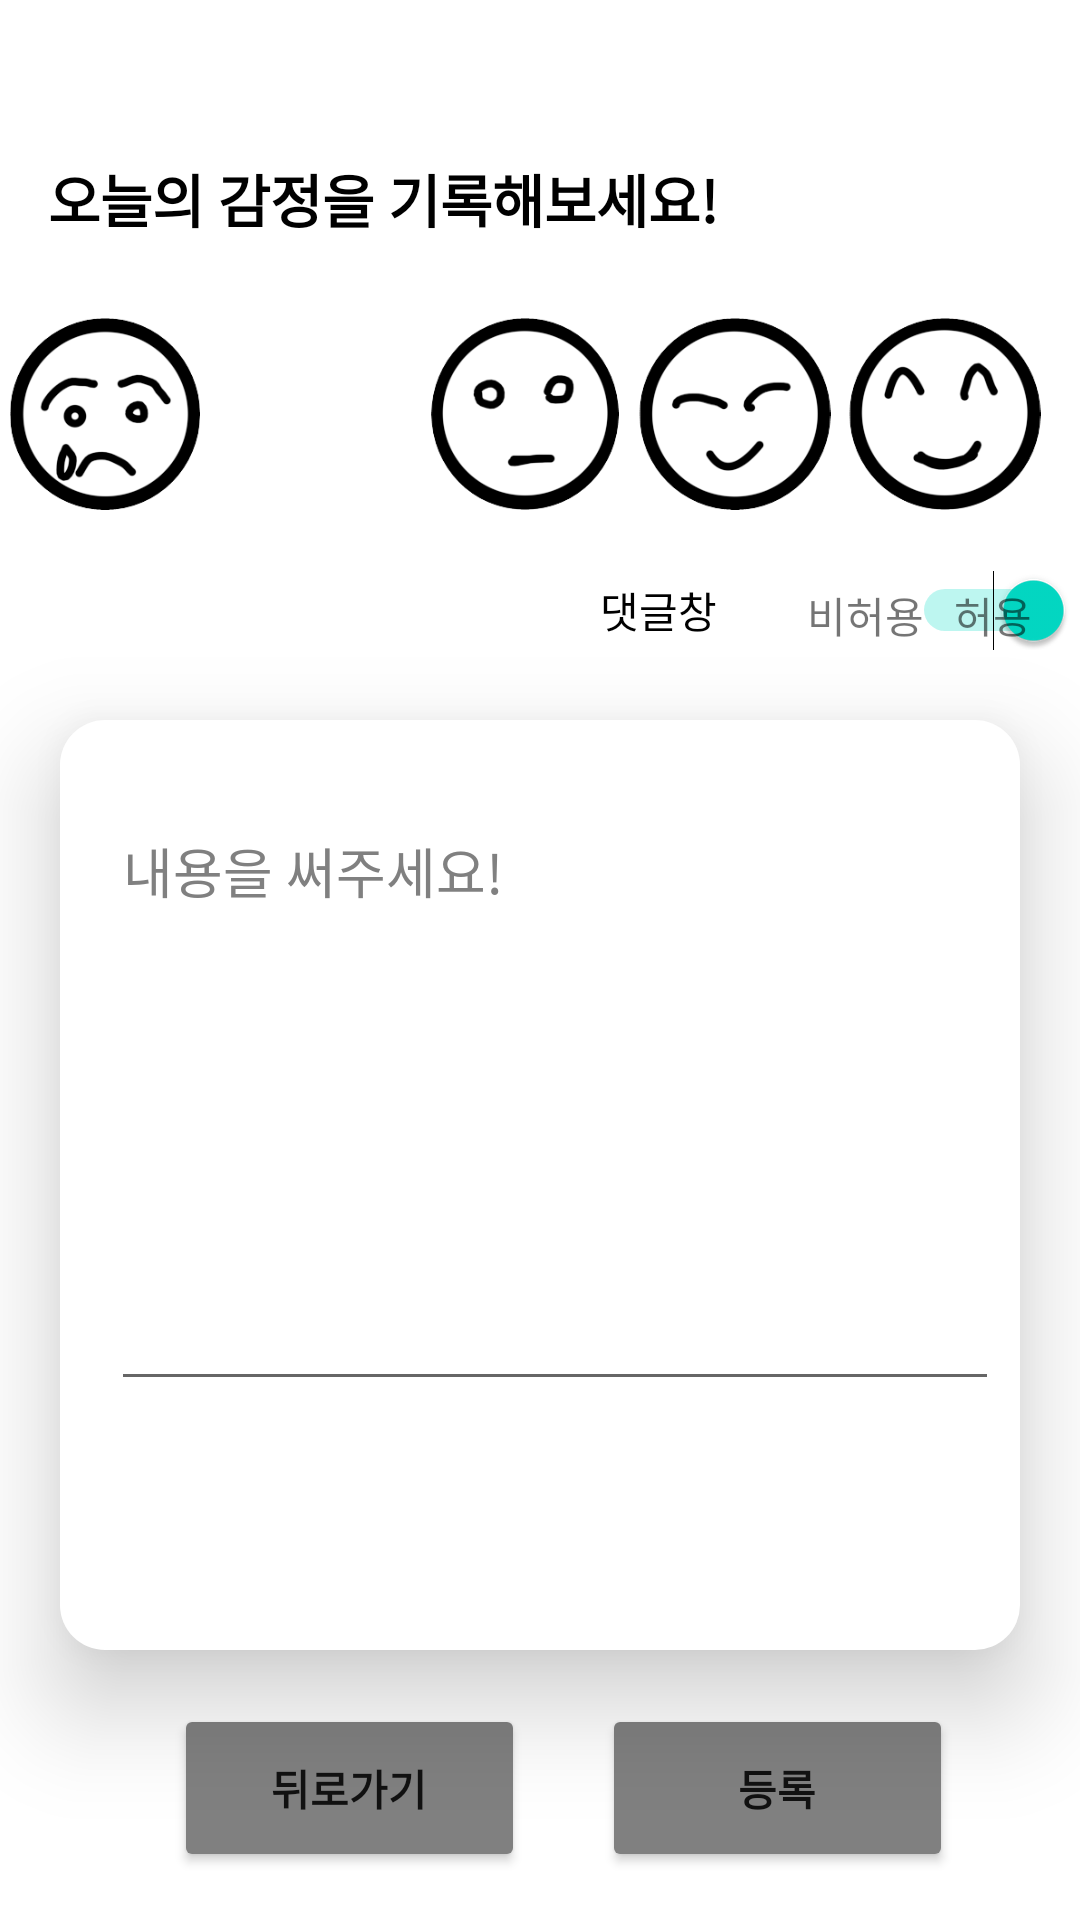

Named icons in this screenshot (1080px x 1920px) and their bounding boxes, (x1, y1, x2, y2):
emotion: (10, 318, 200, 510), (431, 318, 619, 510), (639, 318, 831, 510), (849, 318, 1041, 510)
